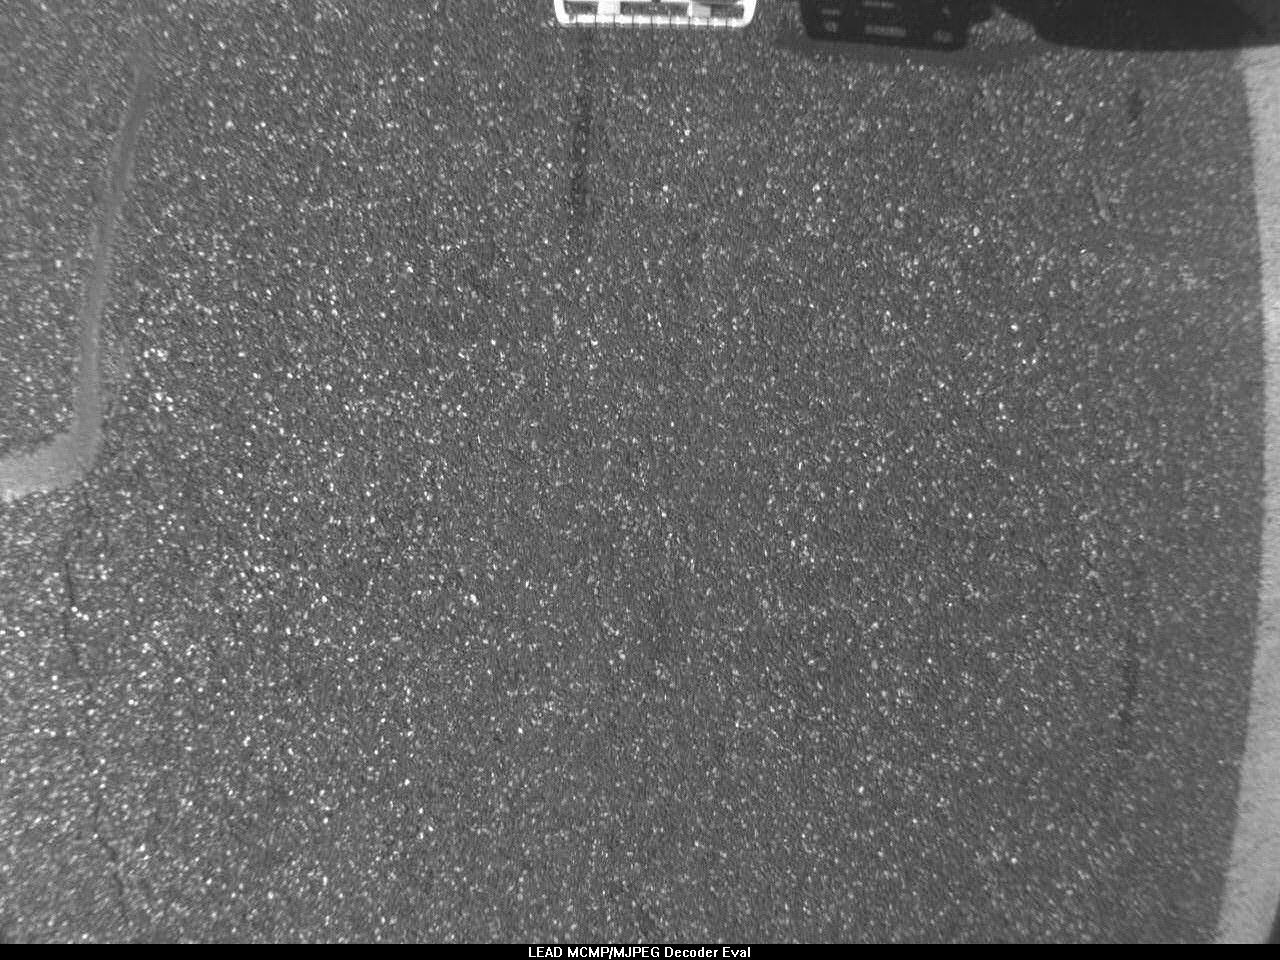sealed: (6, 46, 162, 502)
